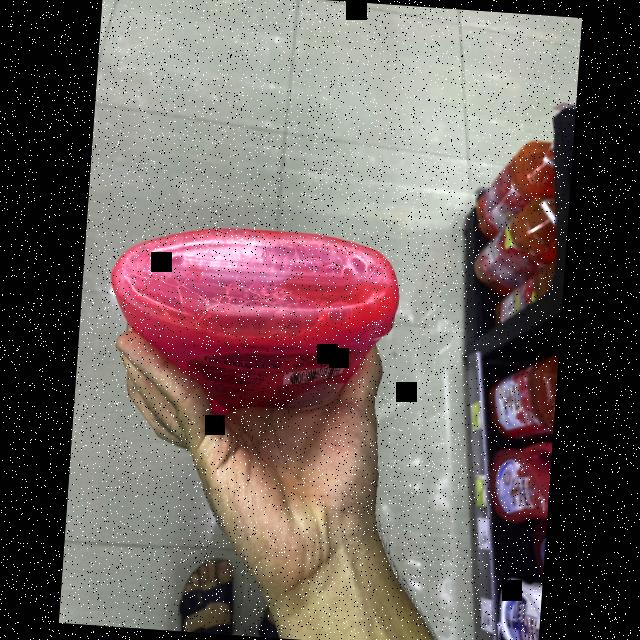chemical_plastic_gallon: (93, 208, 410, 468)
